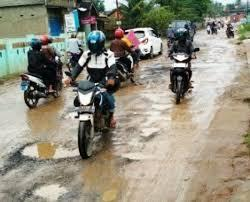Pothole: (17, 167, 153, 202), (103, 113, 167, 180), (17, 134, 100, 168), (117, 75, 171, 125), (201, 41, 233, 72)
